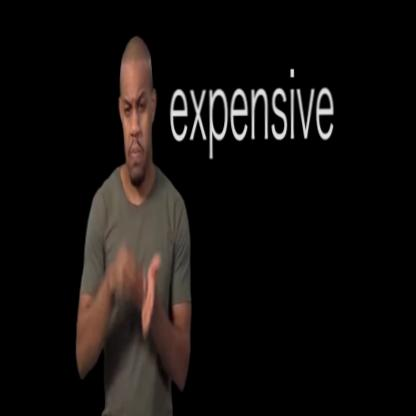Expensive: (107, 224, 172, 347)
